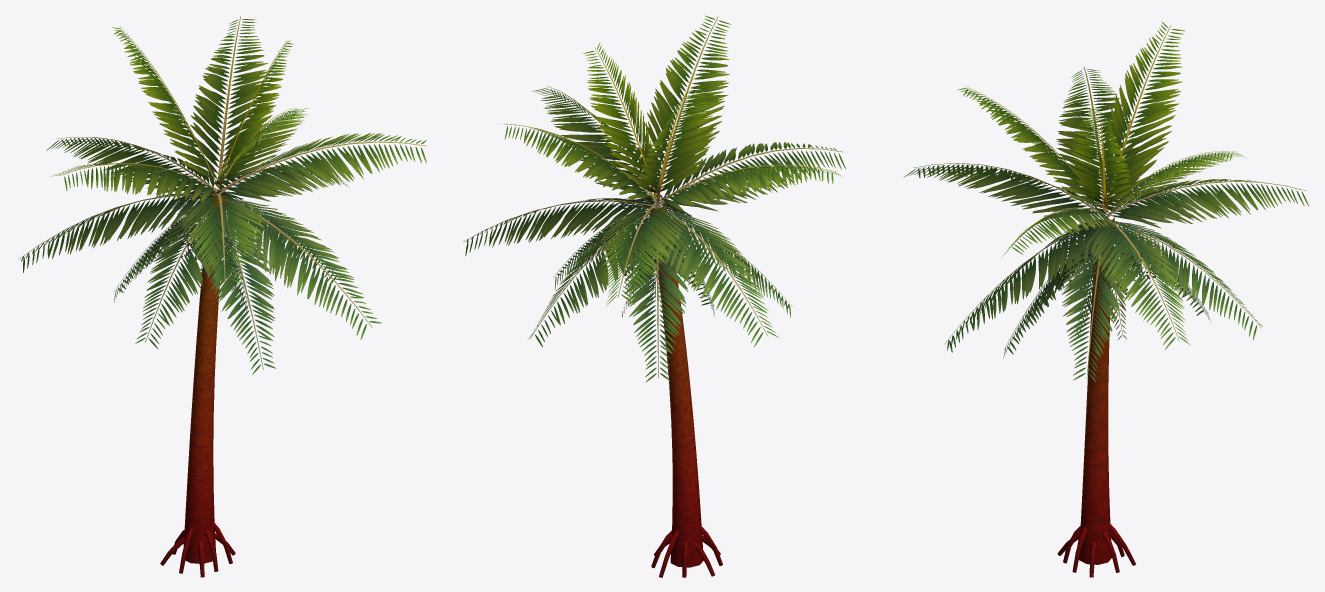
File: palma_sierra.glb
The picture shows the model from 3 angles, left to right: view 1: azimuth 30°, elevation 25°; view 2: azimuth 150°, elevation 25°; view 3: azimuth 270°, elevation 25°; orthographic projection.
Visible parts, largest first — view 1: palma_sierra; view 2: palma_sierra; view 3: palma_sierra.
Boxes of the visible parts, box(x1,y1,x2,y2) form: palma_sierra: box(18, 16, 426, 577); palma_sierra: box(463, 15, 845, 577); palma_sierra: box(903, 21, 1308, 577).
Bounding box in the file's own units: 5.88 × 8.08 × 6.02.
Materials: 2 (2 with a texture image).
